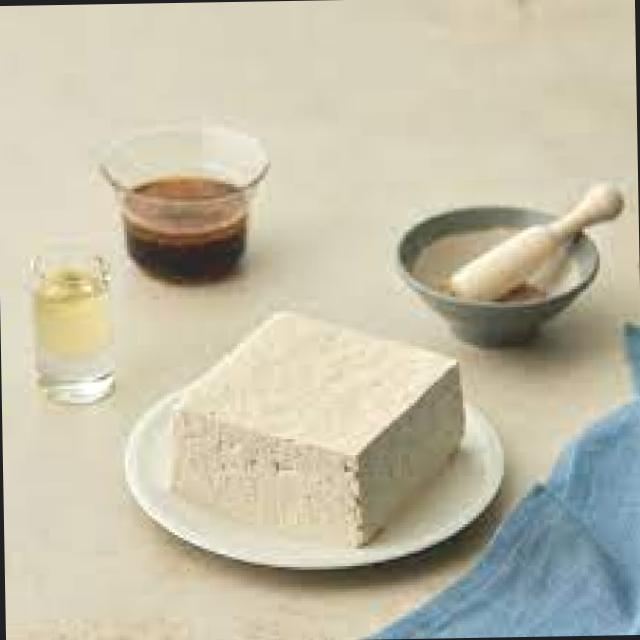tof: (138, 301, 496, 572)
